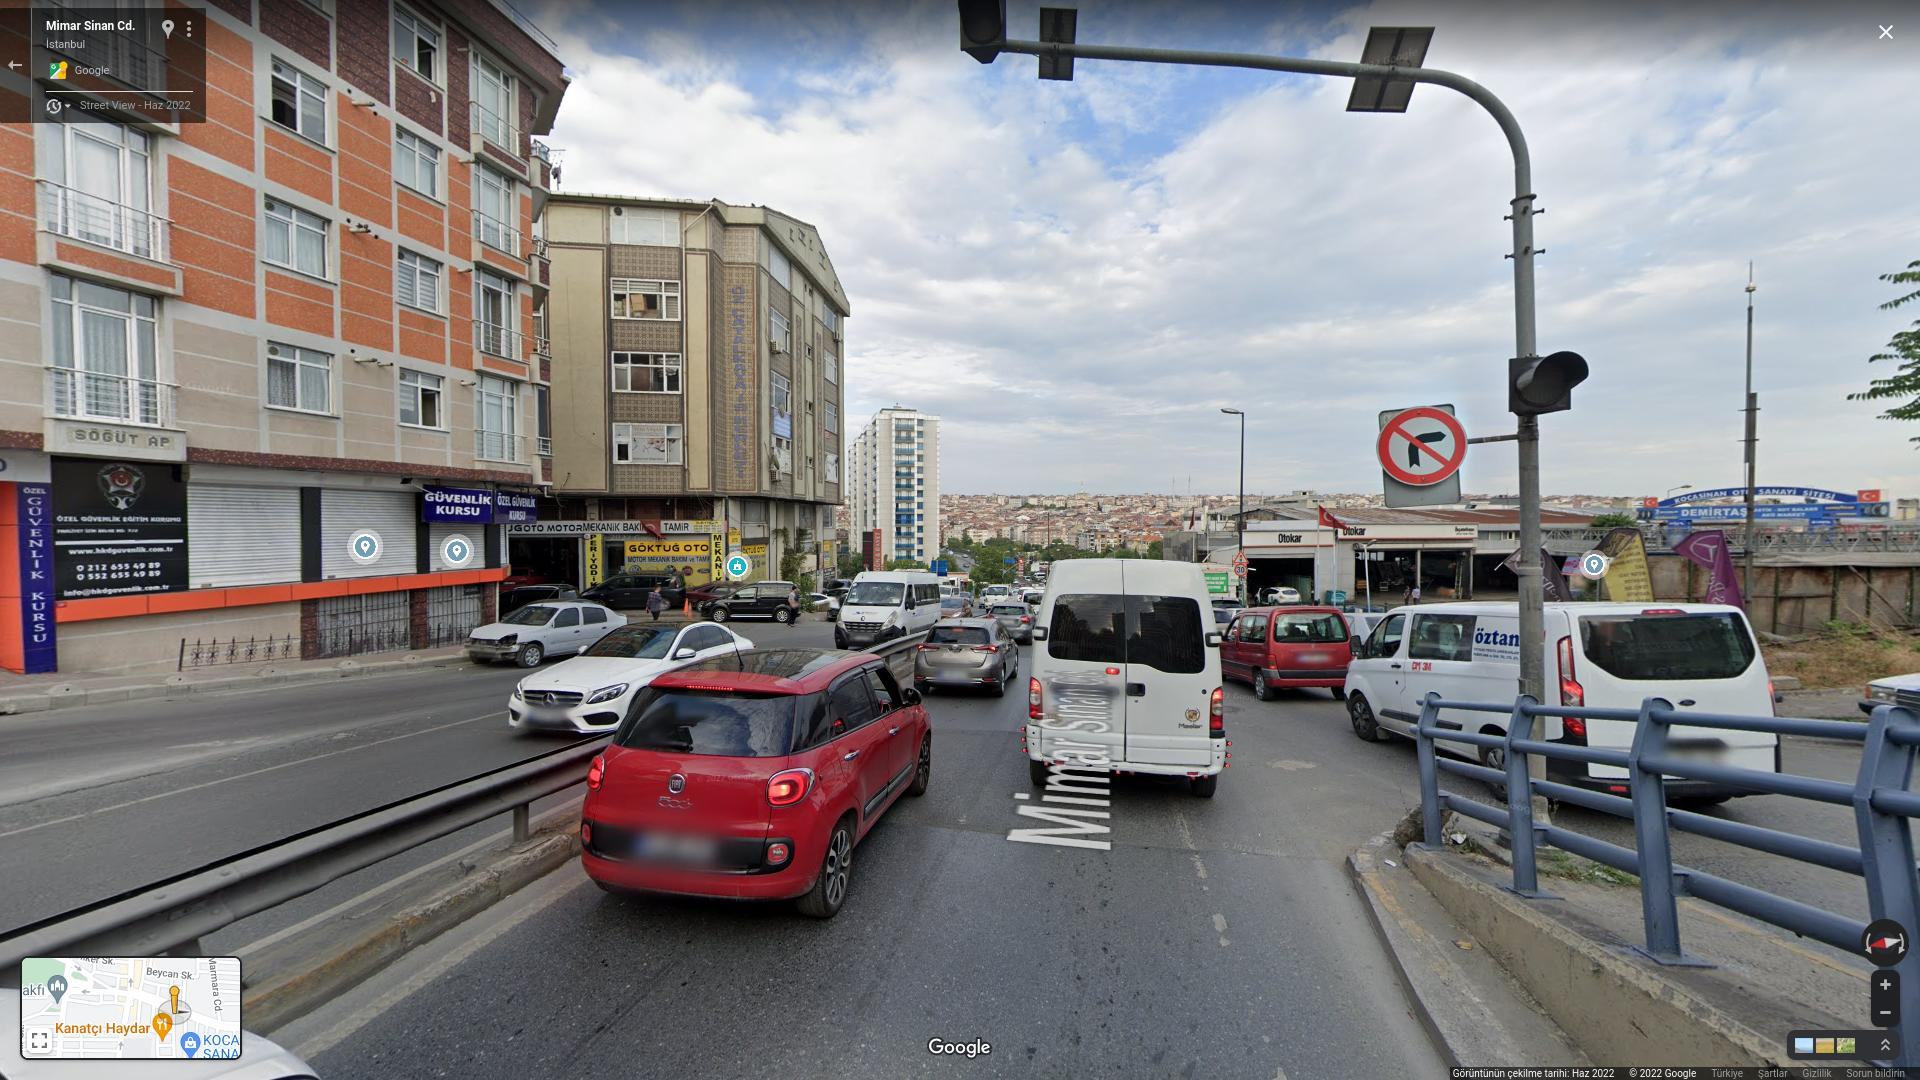rightturnsareforbidden: (1374, 411, 1466, 487)
